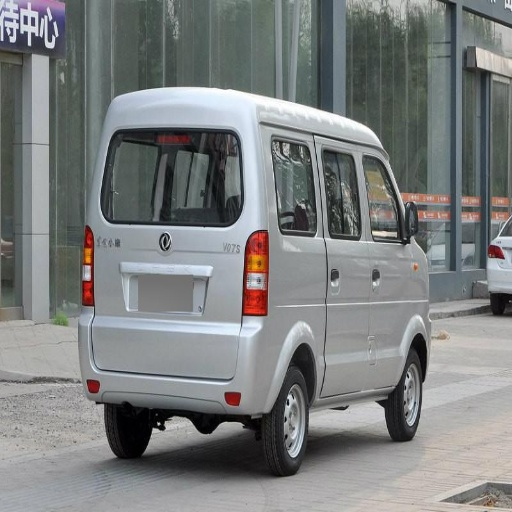back_bumper: (80, 309, 224, 406)
back_right_door: (269, 131, 367, 302), (139, 138, 199, 198)
trunk: (97, 224, 326, 413), (336, 298, 429, 364)
